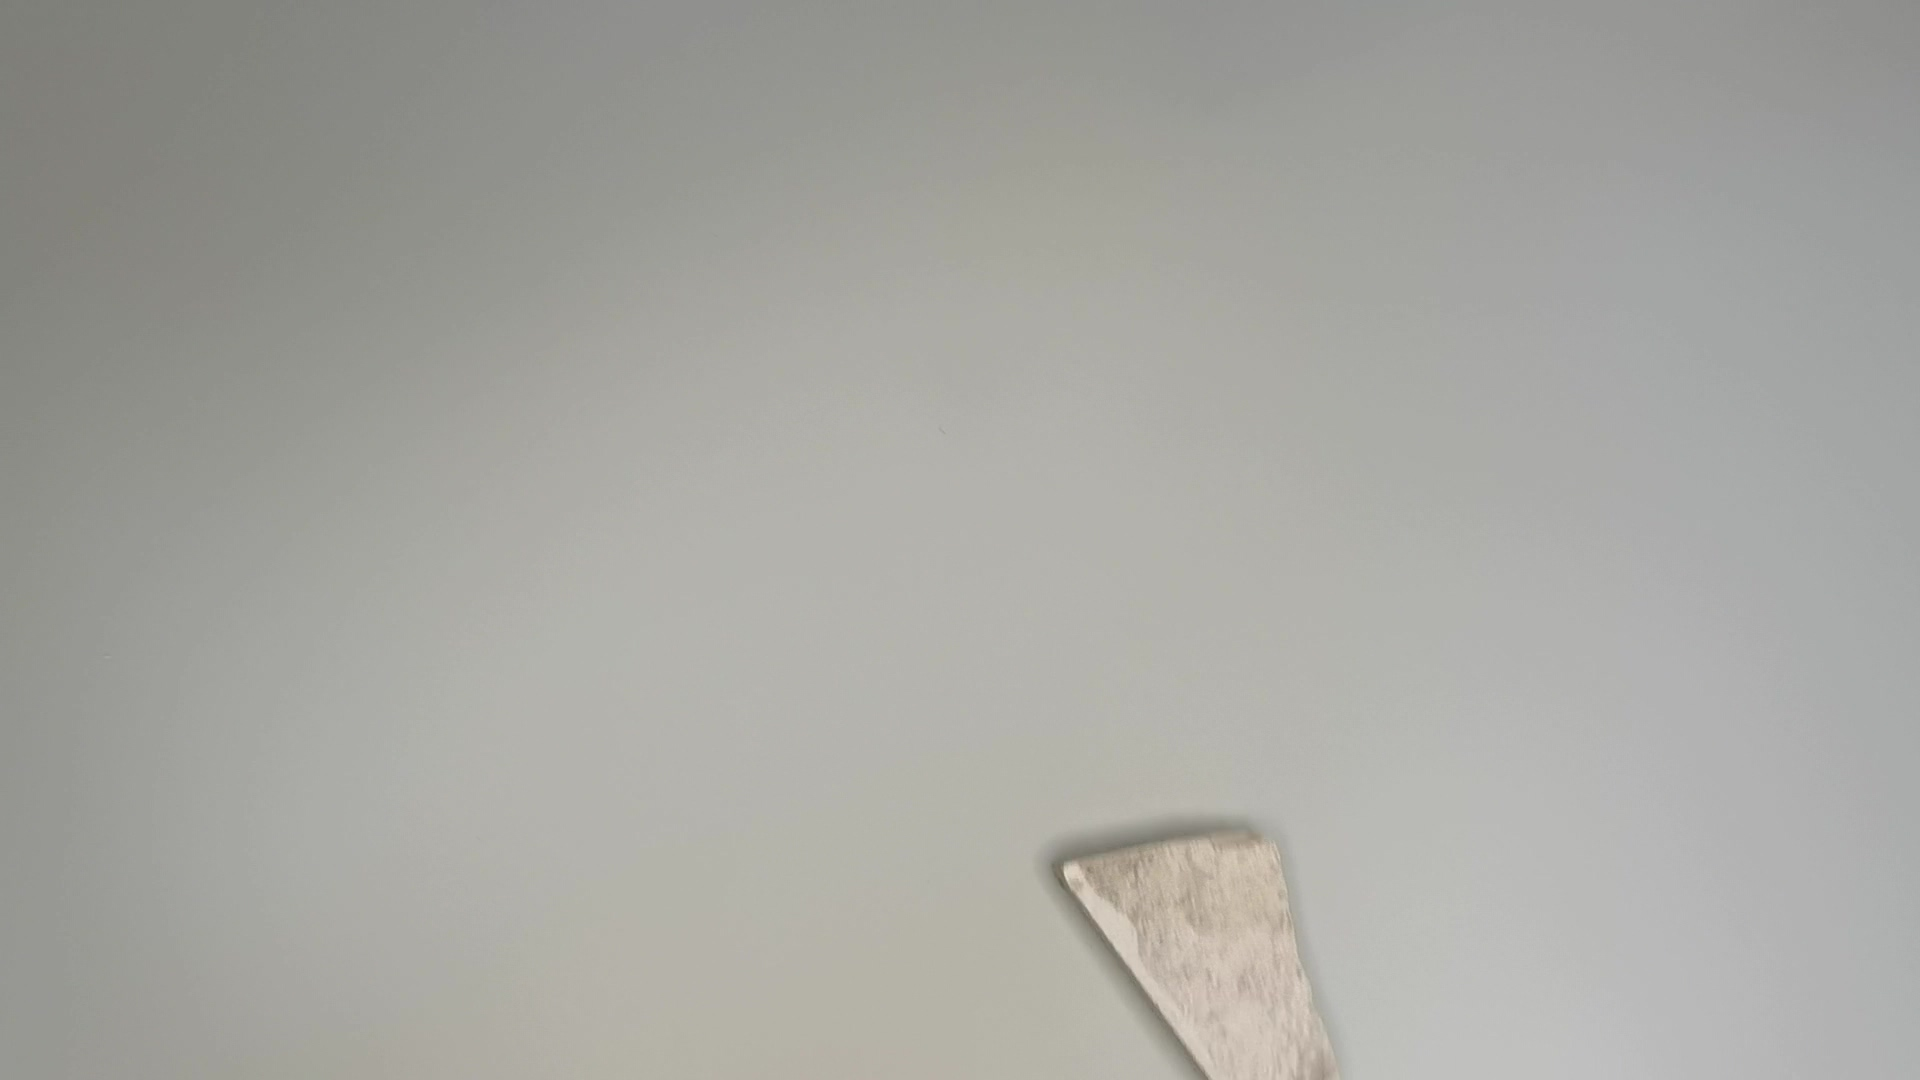ceramic: (1048, 822, 1346, 1080)
